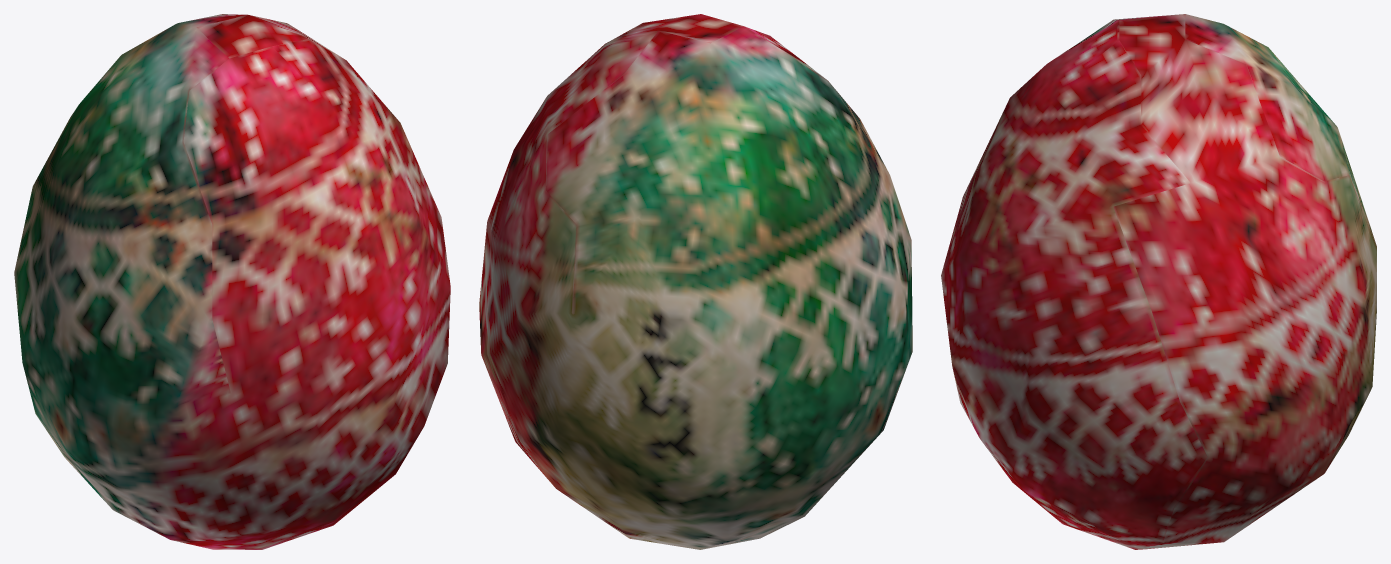
3 renders of one model, left to right at view 1: azimuth 30°, elevation 25°; view 2: azimuth 150°, elevation 25°; view 3: azimuth 270°, elevation 25°, orthographic.
Parts seen in each view (by area): view 1: pMesh1; view 2: pMesh1; view 3: pMesh1.
Boxes of the visible parts, box(x1,y1,x2,y2) form: pMesh1: box(14, 14, 450, 549); pMesh1: box(479, 14, 912, 549); pMesh1: box(941, 14, 1376, 549).
Size of the model in its own units: 41.29 by 52.58 by 41.18.
1 material, 1 textured.
